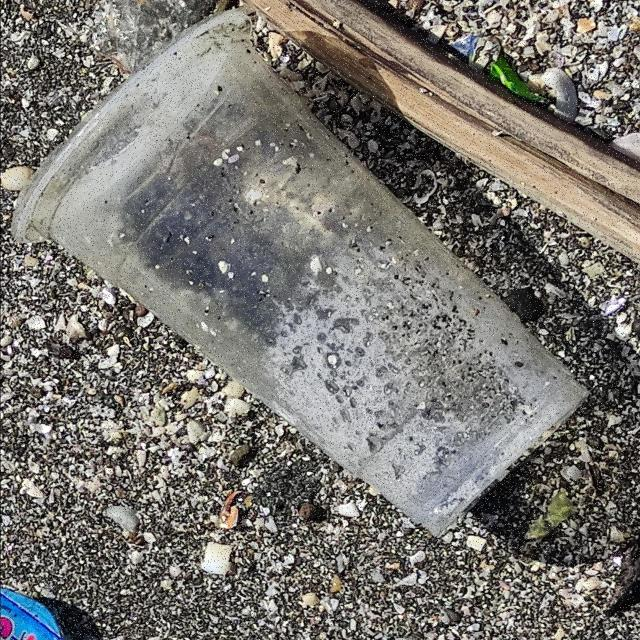plastic_waste: (16, 8, 593, 544)
